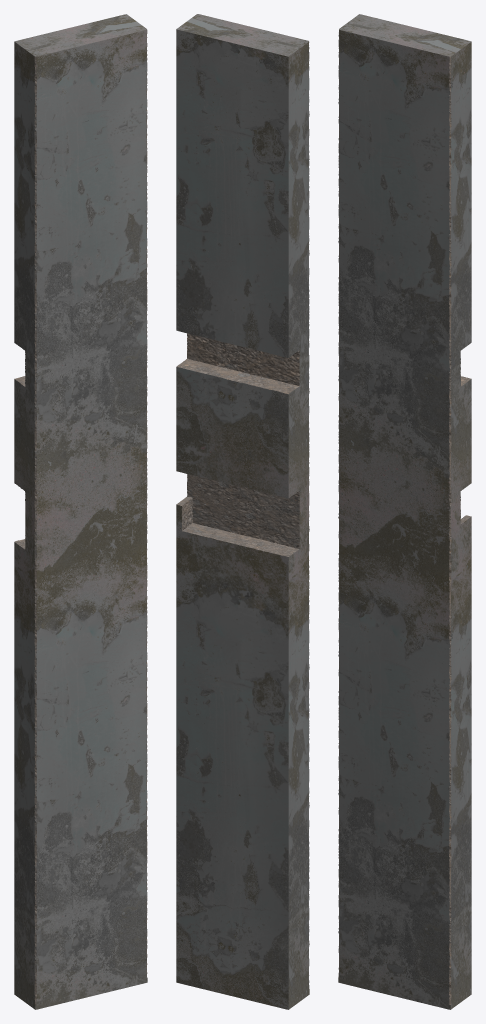
File: SM_ConcreteWall_08.fbx
3 views of the same model, side by side, from view 1: azimuth 30°, elevation 25°; view 2: azimuth 150°, elevation 25°; view 3: azimuth 330°, elevation 25° (orthographic).
Visible parts, largest first — view 1: SM_ConcreteWall_08_LOD0; view 2: SM_ConcreteWall_08_LOD0; view 3: SM_ConcreteWall_08_LOD0.
Boxes of the visible parts, x1,y1,x2,y2 form: SM_ConcreteWall_08_LOD0: (14, 14, 147, 1009); SM_ConcreteWall_08_LOD0: (176, 14, 309, 1009); SM_ConcreteWall_08_LOD0: (338, 14, 471, 1009).
Bounding box in the file's own units: 155 × 50.8 × 1255.
